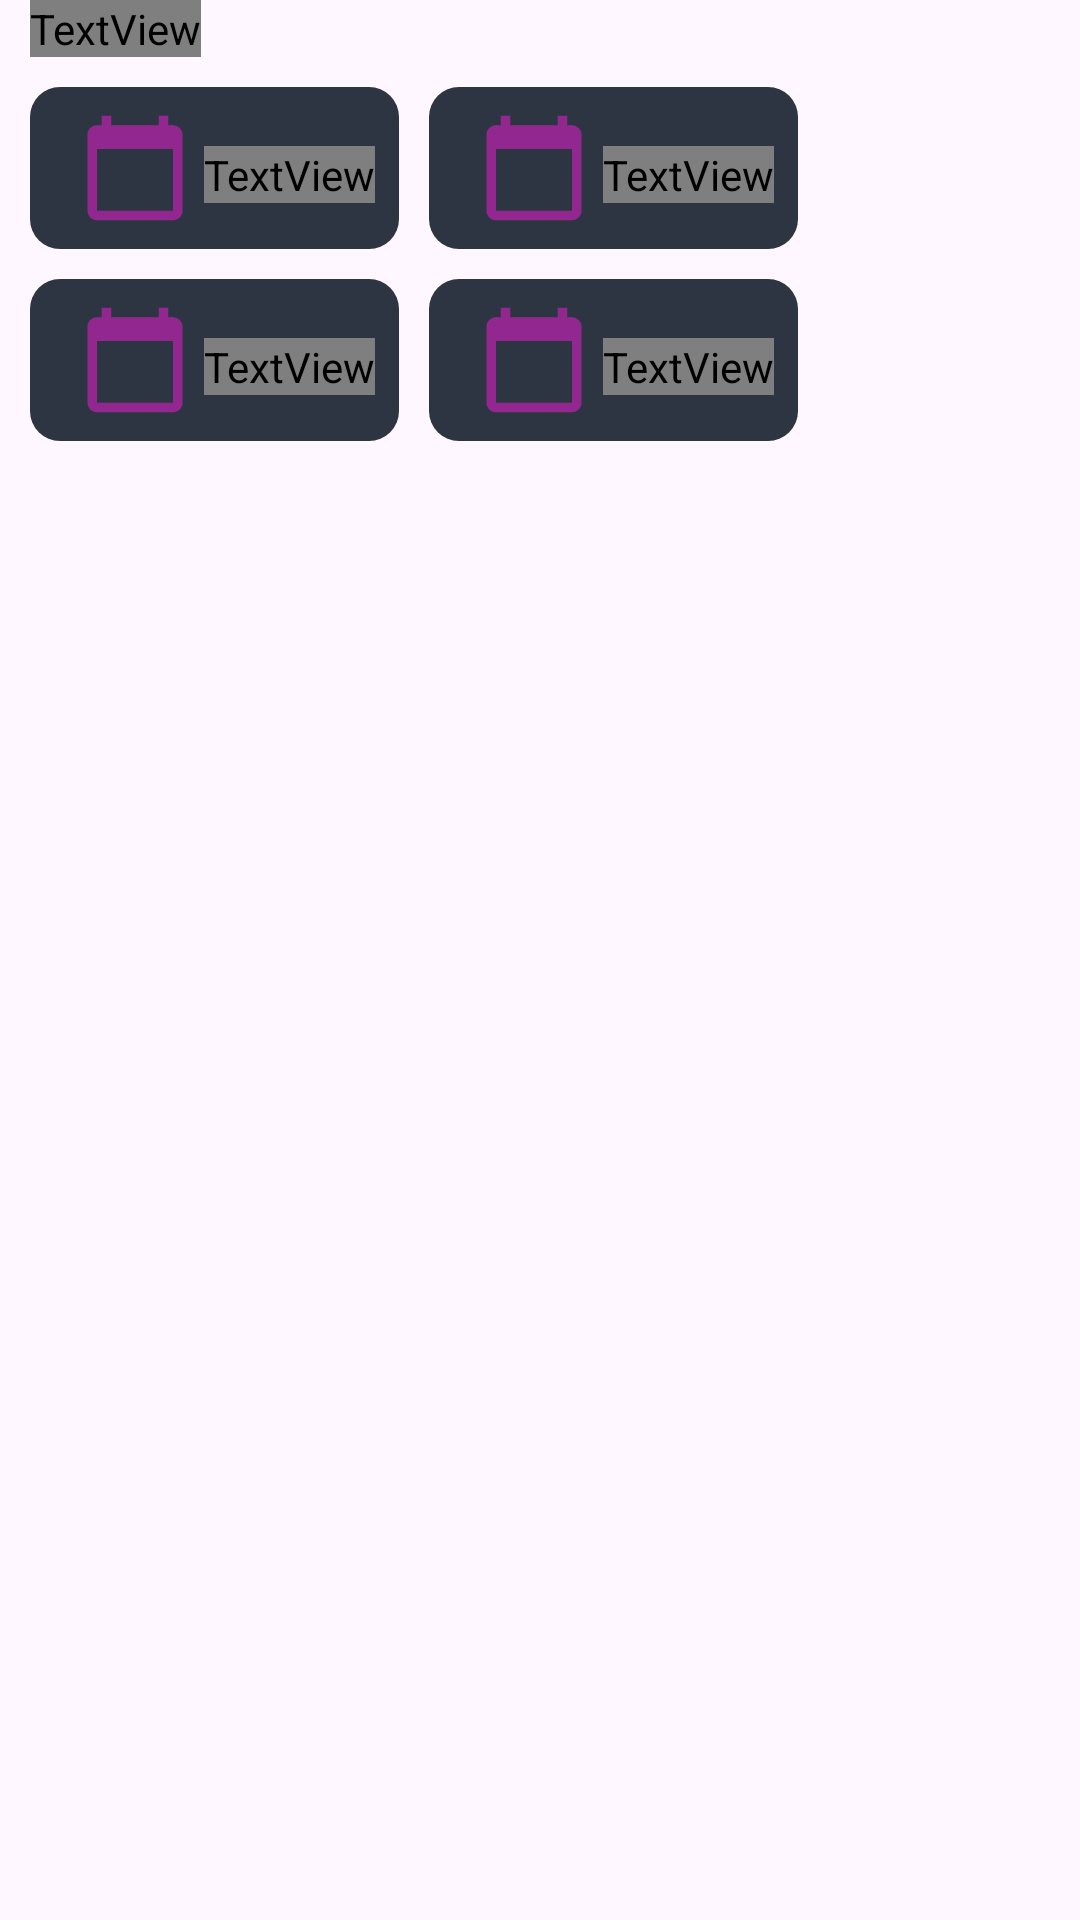

Icons on this 1080×1920 Android screen, each with its box as (x1, y1, x2, y2):
calendar today: (87, 115, 183, 221), (486, 115, 582, 221), (87, 307, 183, 413), (486, 307, 582, 413)
